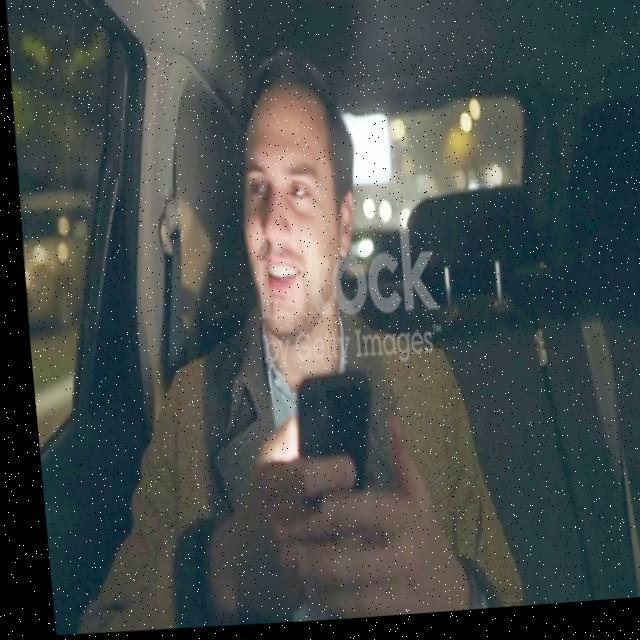PhoneCall: (280, 369, 372, 526)
